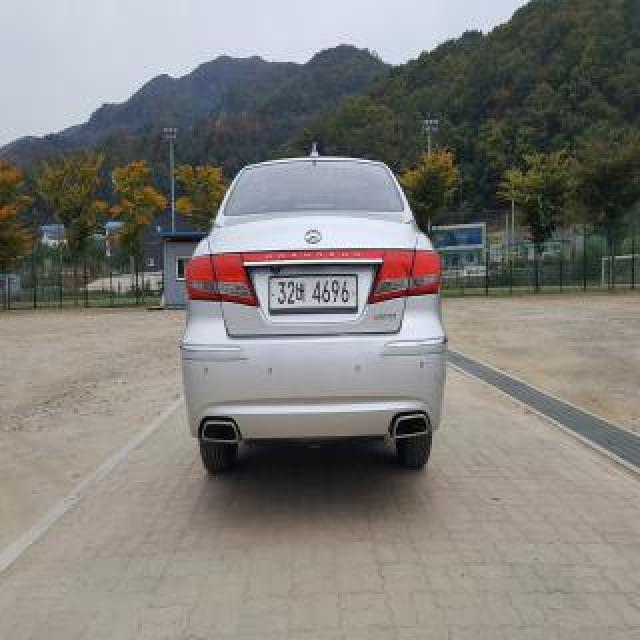car: (171, 149, 460, 490)
illegal_plate: (266, 270, 362, 318)
